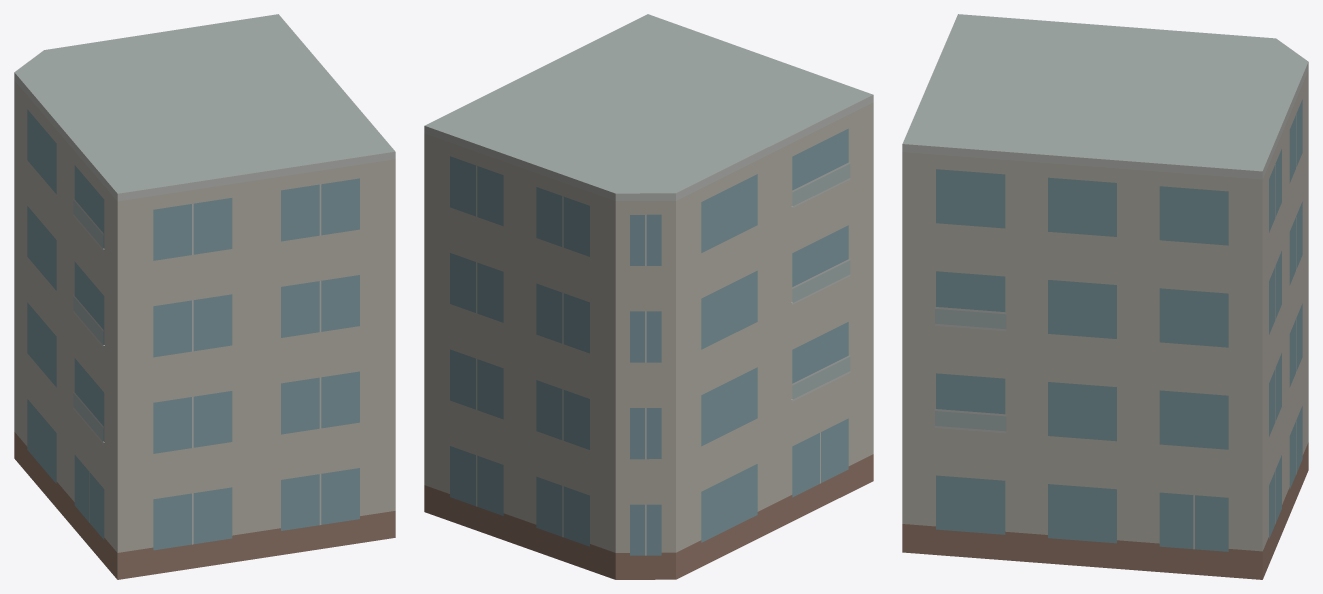
Rendered from survey-upis-32713664.glb.
3 views of the same model, side by side, from view 1: azimuth 30°, elevation 25°; view 2: azimuth 150°, elevation 25°; view 3: azimuth 270°, elevation 25° (orthographic). The views are drawn at different scales.
Parts seen in each view (by area): view 1: survey-upis-32713664.tmp; view 2: survey-upis-32713664.tmp; view 3: survey-upis-32713664.tmp.
Boxes of the visible parts, x1,y1,x2,y2 form: survey-upis-32713664.tmp: [14, 14, 395, 579]; survey-upis-32713664.tmp: [424, 14, 873, 579]; survey-upis-32713664.tmp: [902, 14, 1308, 579].
Bounding box in the file's own units: 10.28 × 12.43 × 11.21.
